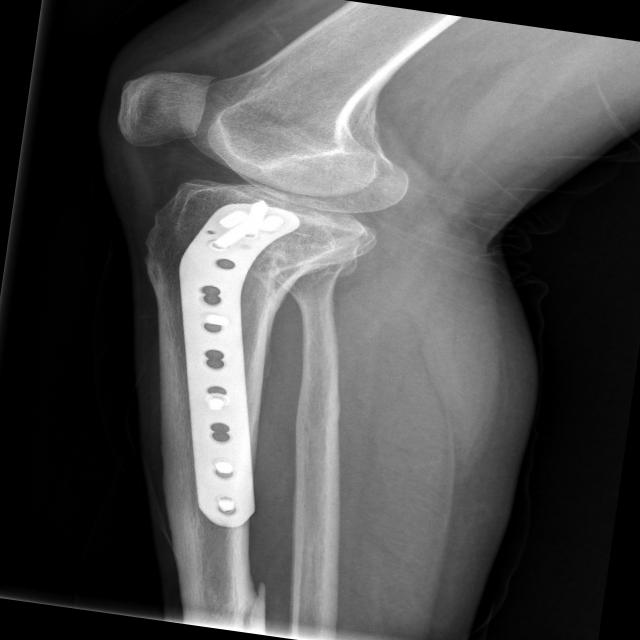Knee: (93, 56, 421, 306)
